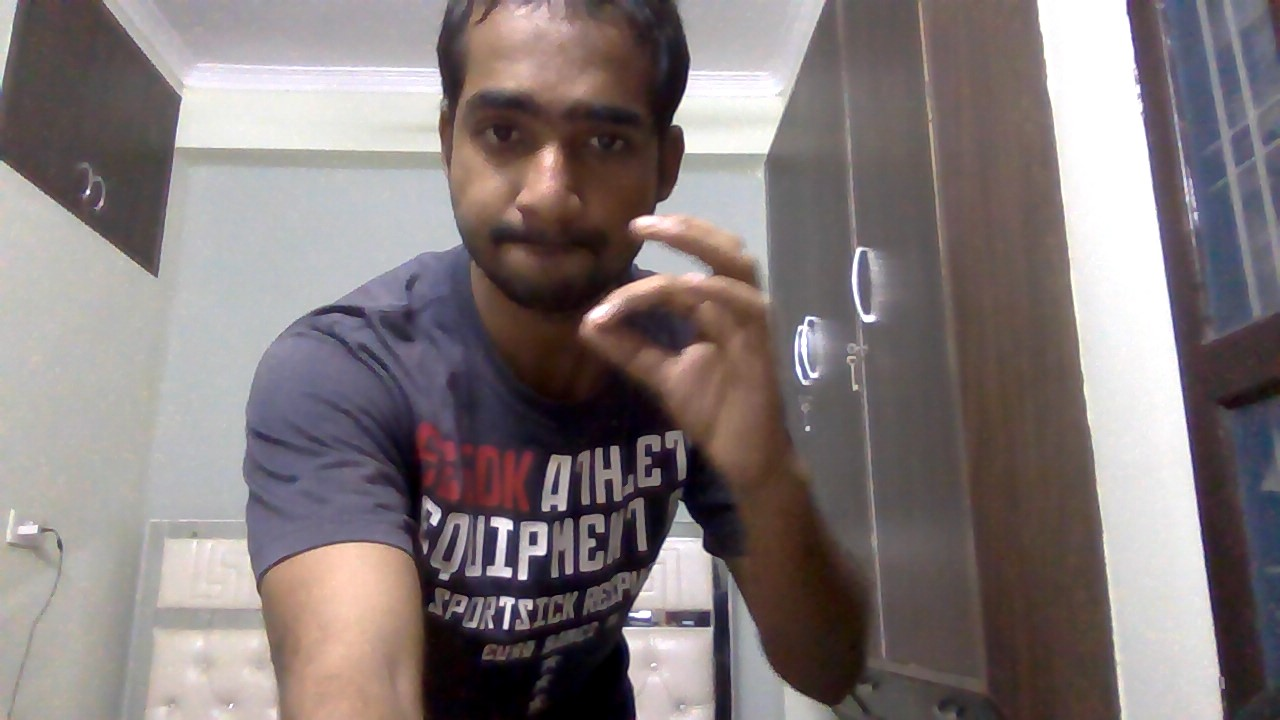Copy: (565, 202, 806, 507)
